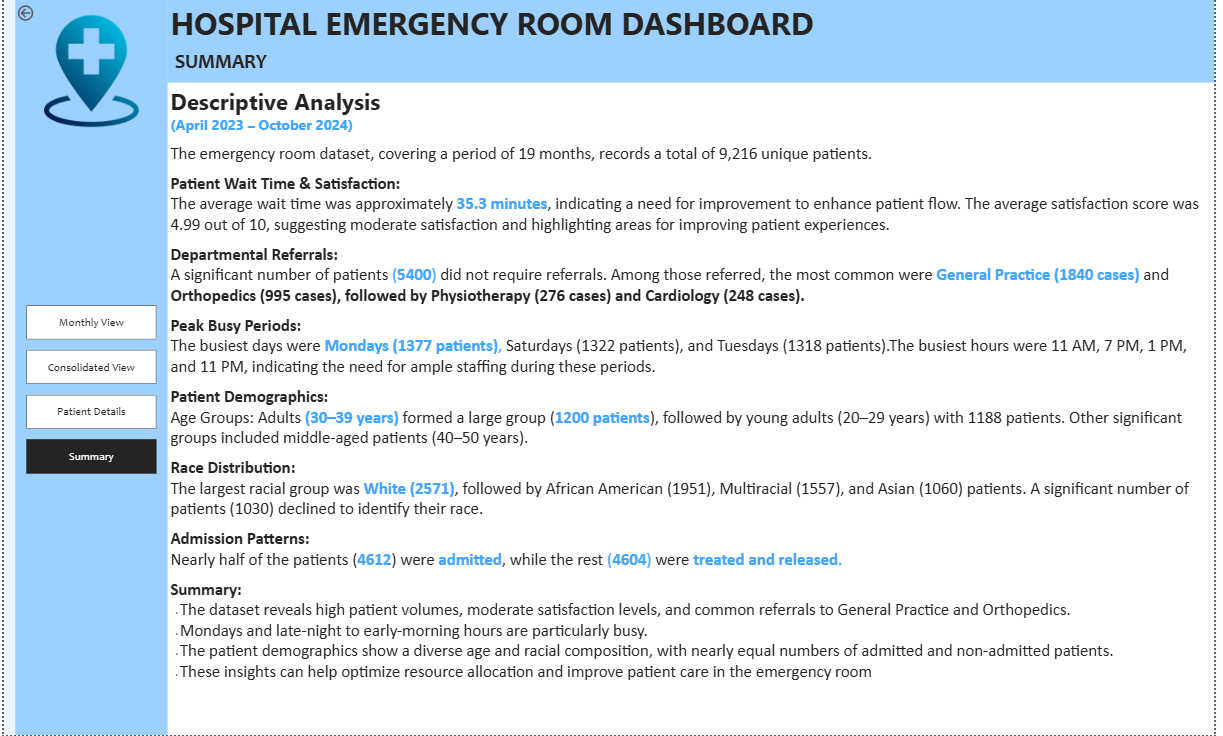

The page's visual inventory and layout, read from the dashboard file:
{"tool":"powerbi","page":{"name":"Summary","canvas":[2302,1400],"ordinal":3},"visuals":[{"type":"shape","box":[21.4,0,290.1,1400.5],"z":0},{"type":"shape","box":[311.5,0,1990.2,159.3],"z":1000},{"type":"textbox","box":[310.8,0,1265.3,90.6],"z":2000},{"type":"textbox","box":[311.5,90.4,544.5,69],"z":3000},{"type":"actionButton","box":[22,7.3,105.2,39.2],"z":4000},{"type":"image","box":[54.7,21.4,223.5,230.6],"z":5000},{"type":"pageNavigator","box":[42.8,582.5,247.3,321],"z":6000},{"type":"textbox","box":[311.5,159.3,1990.2,1241.2],"z":7000}]}

Visuals, with their boxes on the page's 2302x1400 design canvas (x1, y1, x2, y2). These are canvas units, not pixel positions in the 1223x736 screenshot, which may show the page scaled, cropped or inside an application window:
shape: pyautogui.locateOnScreen(21, 0, 312, 1400)
shape: pyautogui.locateOnScreen(312, 0, 2302, 159)
textbox: pyautogui.locateOnScreen(311, 0, 1576, 91)
textbox: pyautogui.locateOnScreen(312, 90, 856, 159)
actionButton: pyautogui.locateOnScreen(22, 7, 127, 46)
image: pyautogui.locateOnScreen(55, 21, 278, 252)
pageNavigator: pyautogui.locateOnScreen(43, 582, 290, 904)
textbox: pyautogui.locateOnScreen(312, 159, 2302, 1400)
